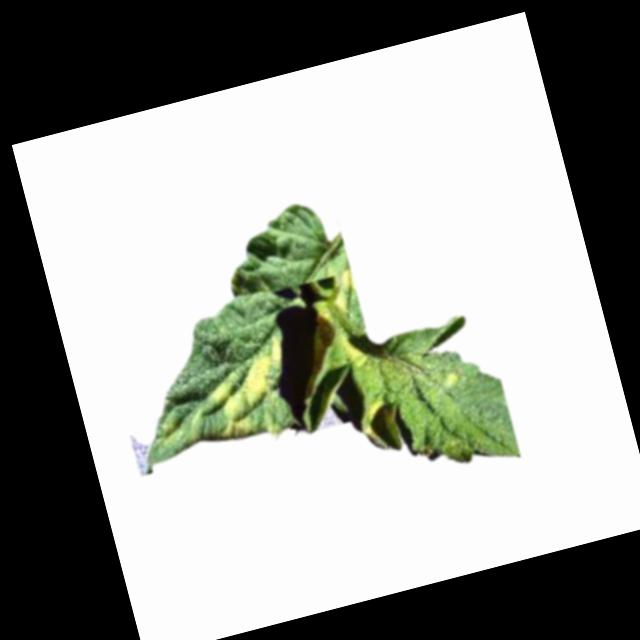Leaf_Mold: (196, 327, 303, 447), (282, 267, 374, 380), (358, 394, 390, 425)
